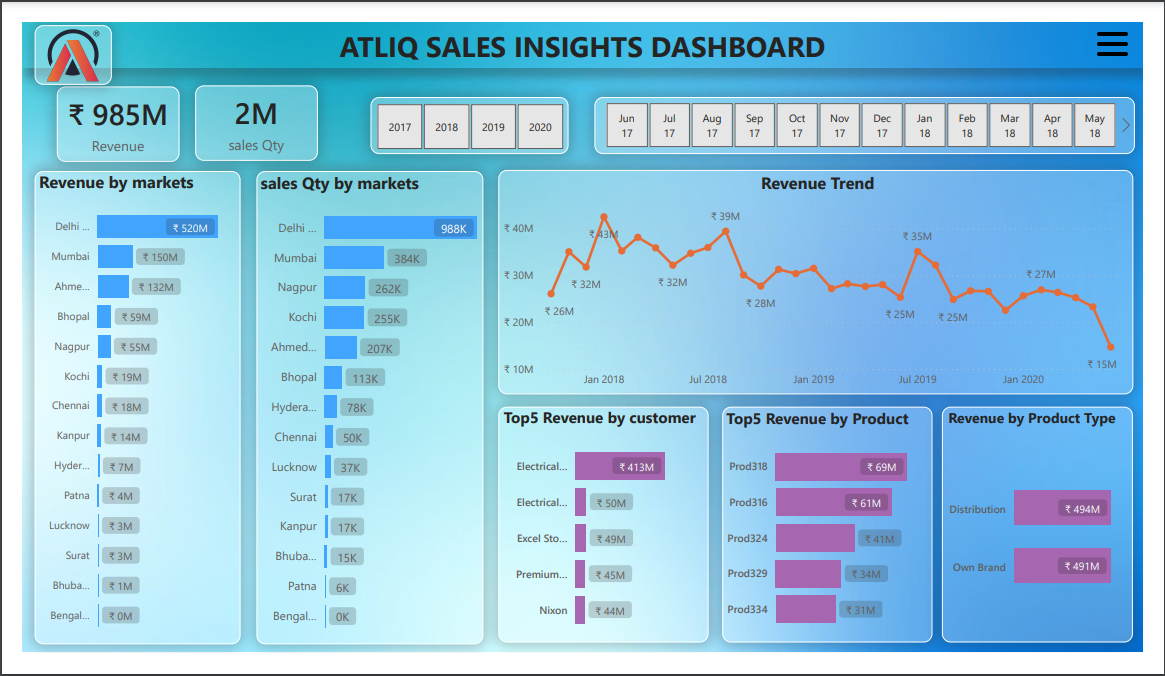

This screenshot's page, from the dashboard's own definition file:
{"tool":"powerbi","page":{"name":"Key Insight","canvas":[1280,720],"ordinal":0},"visuals":[{"type":"textbox","box":[0,0,1280.5,53],"z":0},{"type":"image","box":[1222,2.9,46.8,45.4],"z":1000},{"type":"shape","box":[197.8,72.4,139.9,85.6],"z":6000},{"type":"shape","box":[39.8,73.6,139.9,85.6],"z":7000},{"type":"shape","box":[267.7,170.1,259.3,540.3],"z":8000},{"type":"shape","box":[14.5,170.1,235.2,540.3],"z":9000},{"type":"card","fields":{"Values":["Base Measures 2.Revenue"]},"box":[39.8,73.6,139.9,84.4],"z":10000},{"type":"card","fields":{"Values":["Base Measures 2.sales Qty"]},"box":[197.8,71.2,139.9,86.8],"z":11000},{"type":"shape","box":[14.5,3.6,88,67.5],"z":12000},{"type":"image","box":[14.5,2.4,88,71.2],"z":13000},{"type":"barChart","title":"Revenue by markets","fields":{"Category":["sales markets.markets_name"],"Y":["Base Measures 2.Revenue"]},"box":[14.5,168.8,236.4,540.3],"z":14000},{"type":"barChart","title":"sales Qty by markets","fields":{"Category":["sales markets.markets_name"],"Y":["Base Measures 2.sales Qty"]},"box":[267.7,170.1,259.3,540.3],"z":15000},{"type":"shape","box":[653.7,85.6,617.5,65.1],"z":16000},{"type":"shape","box":[398,85.6,225.5,65.1],"z":17000},{"type":"slicer","fields":{"Values":["sales date.year"]},"box":[379.9,86.8,261.7,65.1],"z":18000},{"type":"slicer","fields":{"Values":["sales date.cy_date"]},"box":[641.6,85.6,630.8,63.9],"z":19000},{"type":"shape","box":[543.9,168.8,724.8,255.7],"z":20000},{"type":"shape","box":[543.9,439,240,268.9],"z":21000},{"type":"shape","box":[799.6,439,240,268.9],"z":22000},{"type":"shape","box":[1050.5,439,218.3,268.9],"z":23000},{"type":"lineChart","title":"Revenue Trend","fields":{"Y":["Base Measures 2.Revenue"],"Category":["sales date.cy_date"]},"box":[545.1,170.1,727.2,255.7],"z":24000},{"type":"barChart","title":"Top5 Revenue by customer","fields":{"Y":["Base Measures 2.Revenue"],"Category":["sales customers.custmer_name"]},"box":[545.1,439,240,270.2],"z":25000},{"type":"barChart","title":"Top5 Revenue by Product","fields":{"Y":["Base Measures 2.Revenue"],"Category":["sales products.product_code"]},"box":[799.6,440.2,240,267.7],"z":26000},{"type":"barChart","title":"Revenue by Product Type","fields":{"Y":["Base Measures 2.Revenue"],"Category":["sales products.product_type"]},"box":[1052.9,440.2,219.5,267.7],"z":27000}]}

Visuals, with their boxes on the page's 1280x720 design canvas (x1, y1, x2, y2). These are canvas units, not pixel positions in the 1165x676 screenshot, which may show the page scaled, cropped or inside an application window:
textbox: [0, 0, 1280, 53]
image: [1222, 3, 1269, 48]
shape: [198, 72, 338, 158]
shape: [40, 74, 180, 159]
shape: [268, 170, 527, 710]
shape: [14, 170, 250, 710]
card - Base Measures 2.Revenue: [40, 74, 180, 158]
card - Base Measures 2.sales Qty: [198, 71, 338, 158]
shape: [14, 4, 102, 71]
image: [14, 2, 102, 74]
"Revenue by markets" barChart: [14, 169, 251, 709]
"sales Qty by markets" barChart: [268, 170, 527, 710]
shape: [654, 86, 1271, 151]
shape: [398, 86, 624, 151]
slicer - sales date.year: [380, 87, 642, 152]
slicer - sales date.cy_date: [642, 86, 1272, 150]
shape: [544, 169, 1269, 424]
shape: [544, 439, 784, 708]
shape: [800, 439, 1040, 708]
shape: [1050, 439, 1269, 708]
"Revenue Trend" lineChart: [545, 170, 1272, 426]
"Top5 Revenue by customer" barChart: [545, 439, 785, 709]
"Top5 Revenue by Product" barChart: [800, 440, 1040, 708]
"Revenue by Product Type" barChart: [1053, 440, 1272, 708]
